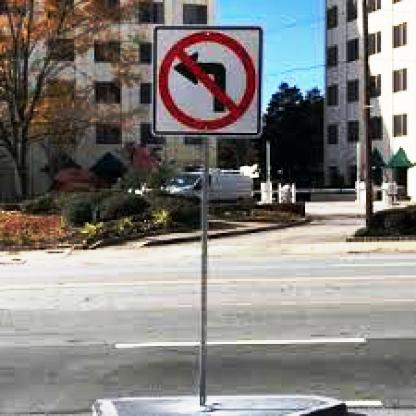No left turn: (150, 18, 272, 146)
